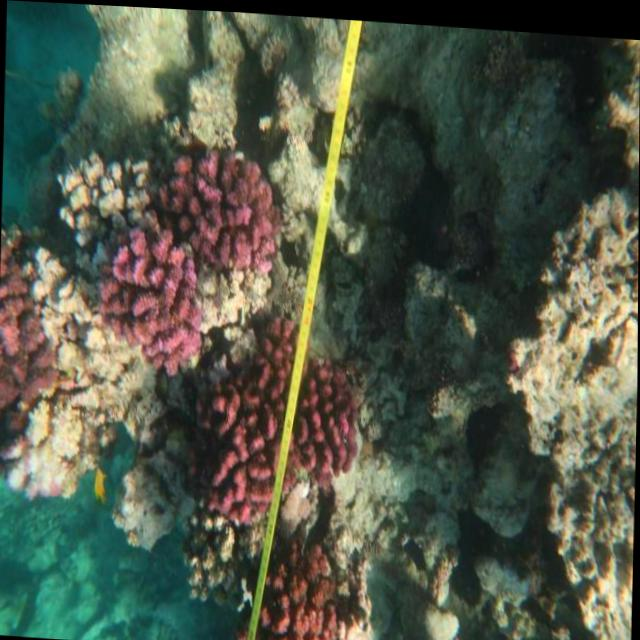Bleached Coral: (0, 390, 98, 510)
Healthy Coral: (198, 297, 360, 541), (159, 139, 281, 273), (89, 241, 208, 366), (228, 542, 373, 640), (0, 217, 59, 400)
